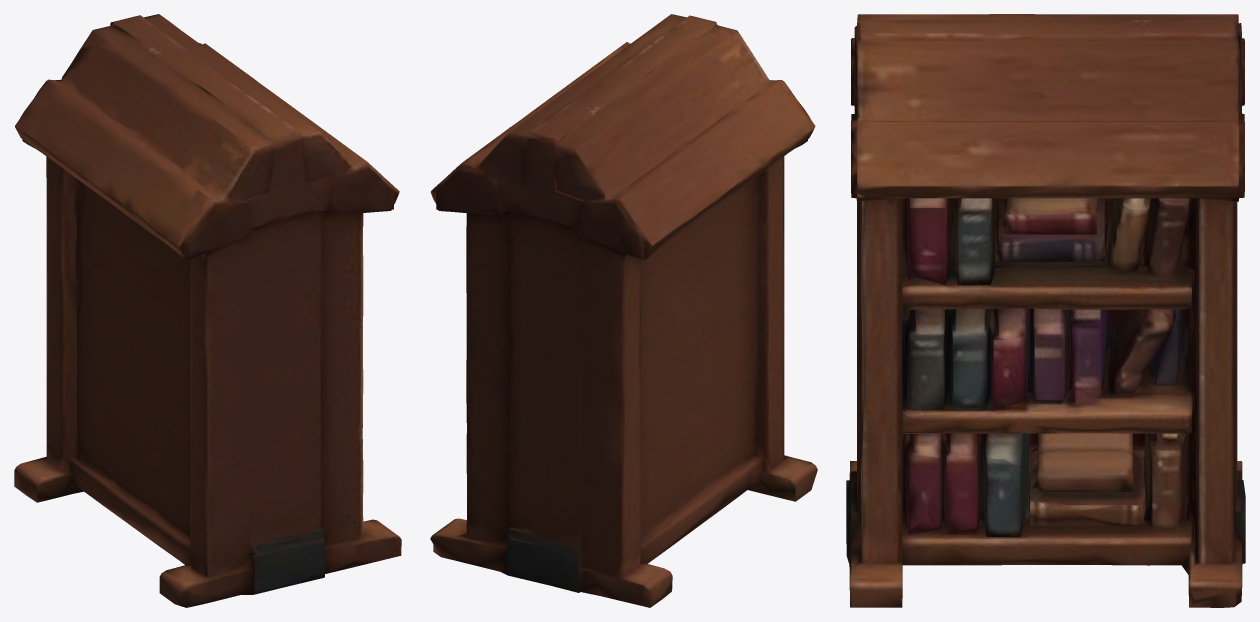
Rendered from bookshelf.glb.
The picture shows the model from 3 angles, left to right: view 1: azimuth 30°, elevation 25°; view 2: azimuth 150°, elevation 25°; view 3: azimuth 270°, elevation 25°; orthographic projection. The views are drawn at different scales.
Visible parts, largest first — view 1: tripo_node_7a6ba0c5-112f-4228-98a8-fb3e2e3aaaf4; view 2: tripo_node_7a6ba0c5-112f-4228-98a8-fb3e2e3aaaf4; view 3: tripo_node_7a6ba0c5-112f-4228-98a8-fb3e2e3aaaf4.
Part boxes in pixels (x1,y1,x2,y2): tripo_node_7a6ba0c5-112f-4228-98a8-fb3e2e3aaaf4: (14,14,401,607); tripo_node_7a6ba0c5-112f-4228-98a8-fb3e2e3aaaf4: (430,14,817,607); tripo_node_7a6ba0c5-112f-4228-98a8-fb3e2e3aaaf4: (846,14,1245,607).
Size of the model in its own units: 0.52 by 1 by 0.6946.
Materials: 1 (1 with a texture image).
